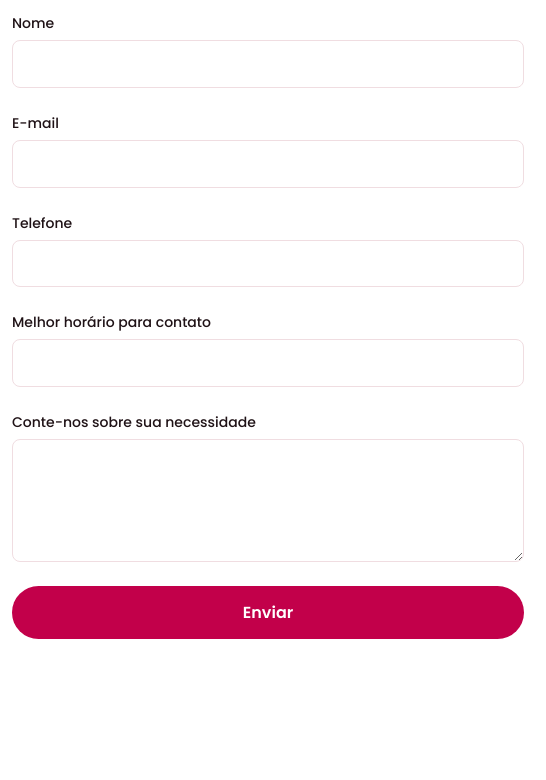
Test case: ContactForm › rejects an invalid e-mail and an invalid phone without submitting
Type "nao-e-um-email" into the field labelled "E-mail" at (268, 164), box [12,140,524,188]
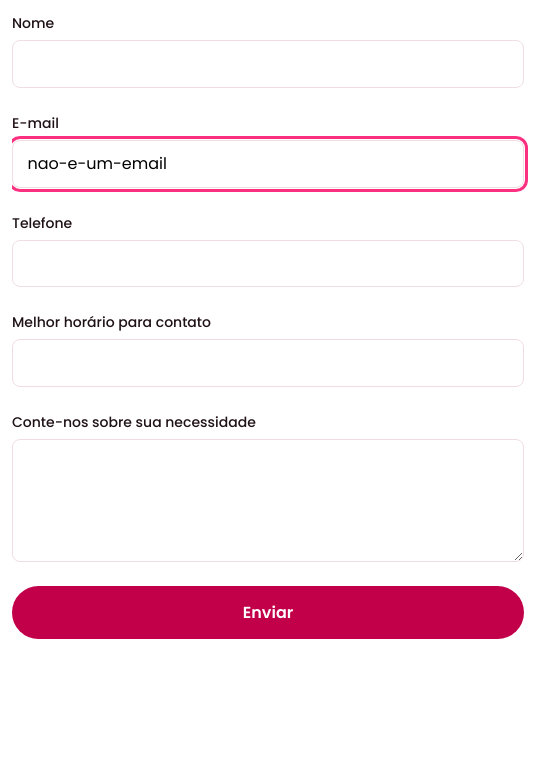
Type "123" into the field labelled "Telefone" at (268, 263), box [12,240,524,287]
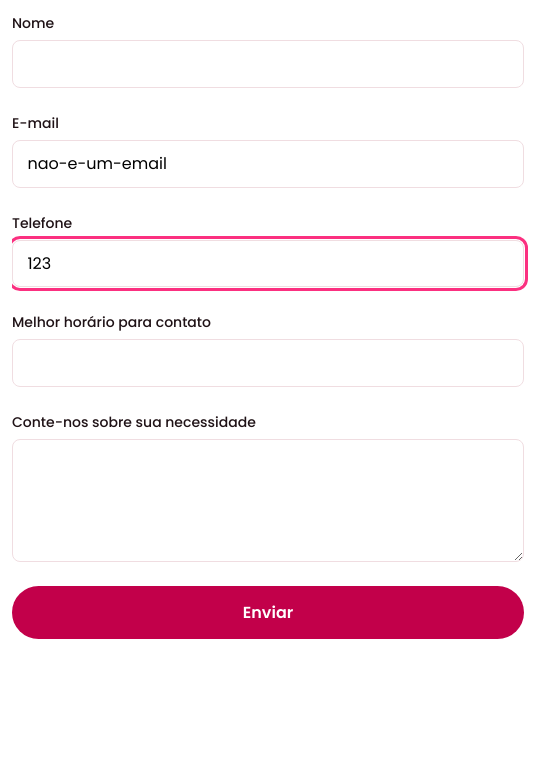
Click the button "Enviar" at (268, 612), box [12,586,524,639]
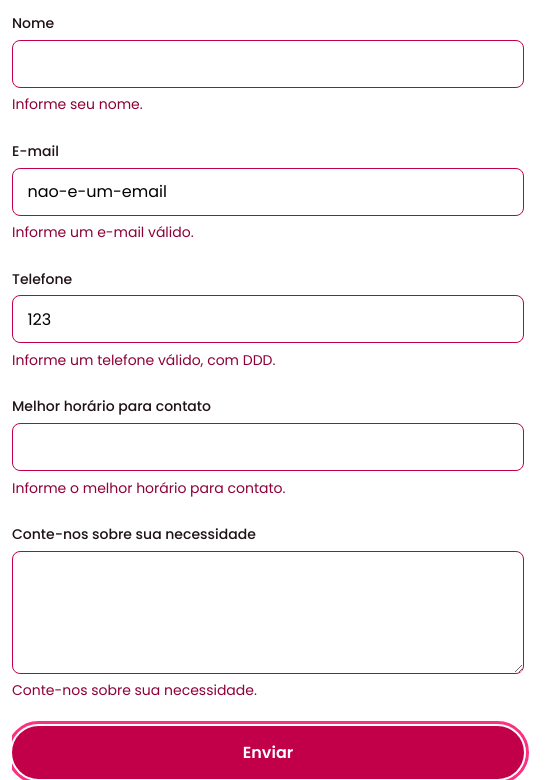
expect the text "Informe um e-mail válido." is shown: met, box [12,222,194,242]
expect the text "Informe um telefone válido, com DDD." is shown: met, box [12,350,275,370]
